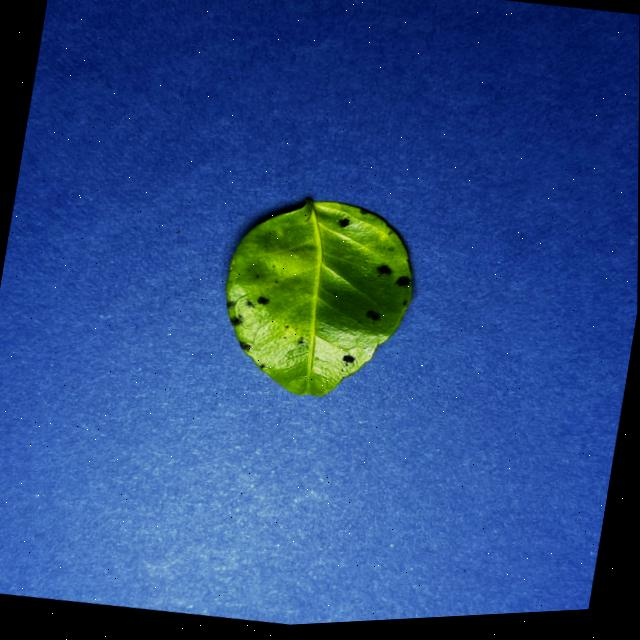sooty_mold: (225, 199, 412, 395)
